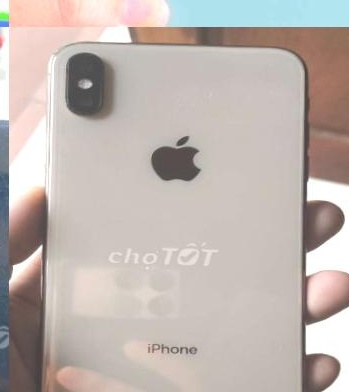scratch: (0, 111, 9, 171), (0, 219, 6, 273)
